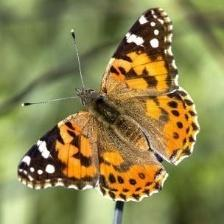butterfly: (18, 8, 200, 202)
